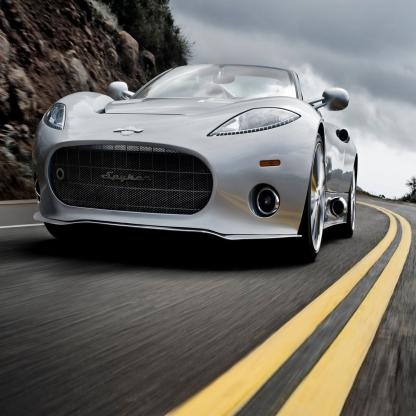Vehicle: (32, 58, 360, 268)
